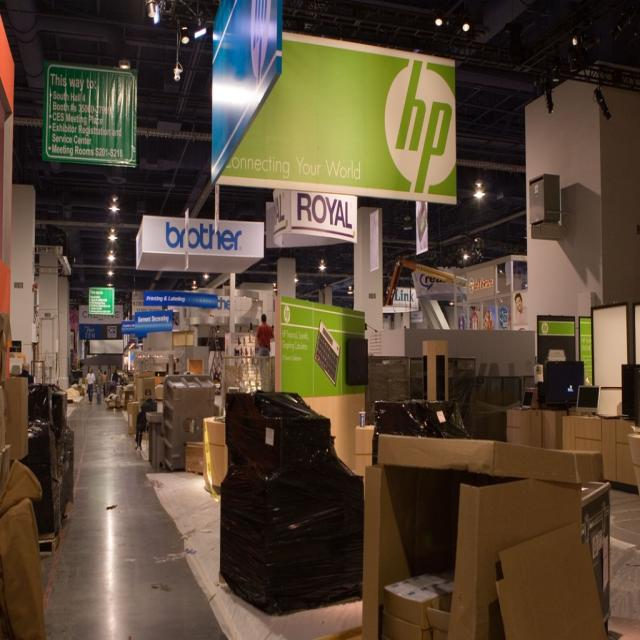HP: (384, 53, 459, 201), (540, 320, 552, 338)
